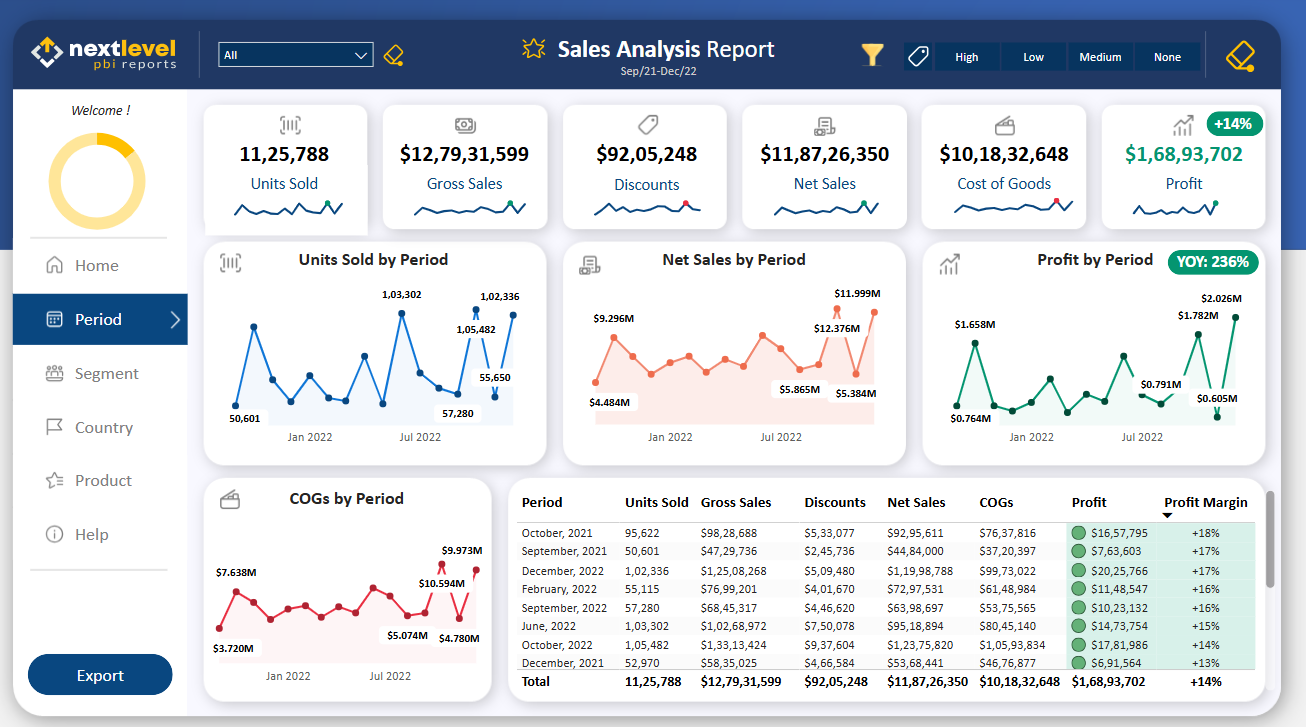

What the dashboard file says about the page in this screenshot:
{"tool":"powerbi","page":{"name":"Sales Analysis","canvas":[1280,720],"ordinal":1},"visuals":[{"type":"actionButton","box":[45,37,145,38],"z":0,"group":"g3"},{"type":"pivotTable","fields":{"Rows":["DIM_MANAGERS.Image URL"]},"box":[68.3,133.3,84.6,84.6],"z":0,"group":"g6"},{"type":"pivotTable","title":"Spark_Profit","fields":{"Values":["SparklineData(*Measures.M_Profit_[DIM DATE.YearMonth])"]},"box":[1080.7,164,157,67],"z":0,"group":"g2"},{"type":"areaChart","title":"Units Sold by Period","fields":{"Category":["DIM DATE.Reporting Period"],"Y":["*Measures.M_Units Sold"]},"box":[216,243.7,320,200],"z":0,"group":"g1"},{"type":"actionButton","title":"Button_Period_Active","box":[28,287.7,168.8,49.4],"z":0,"group":"g5"},{"type":"shape","title":"Shape_Bottom Nav Divider","box":[45,539,132.5,31.2],"z":0,"group":"g4"},{"type":"actionButton","title":"Filter_Button2_Off","box":[843,38,30.2,41],"z":500},{"type":"slicer","fields":{"Values":["DIM_MANAGERS.Manager Name"]},"box":[216,35,170,45],"z":1000,"group":"g3"},{"type":"actionButton","title":"Filter_Button_On","box":[842.7,37.8,29.3,41],"z":1000},{"type":"shape","box":[68.3,133.3,84.6,84.6],"z":1000,"group":"g6"},{"type":"pivotTable","title":"Spark_COG","fields":{"Values":["SparklineData(*Measures.M_Cost Of Goods_[DIM DATE.YearMonth])"]},"box":[907.4,163.7,157,68.2],"z":1000,"group":"g2"},{"type":"areaChart","title":"Net Sales by Period","fields":{"Category":["DIM DATE.Reporting Period"],"Y":["*Measures.M_Net Sales"]},"box":[563.1,243.7,321.1,200],"z":1000,"group":"g1"},{"type":"actionButton","box":[167,287.7,29.9,50.6],"z":1000,"group":"g5"},{"type":"actionButton","title":"Button_Export","box":[42,635,140,40],"z":1000,"group":"g4"},{"type":"actionButton","box":[377.5,46.1,36,24.7],"z":2000,"group":"g3"},{"type":"donutChart","title":"Donut_Mgr Image","fields":{"Y":["*Measures.M_Profit Margin","*Measures.M_100% Minus Profit Margin"]},"box":[46.5,115.4,126.9,128.2],"z":2000,"group":"g6"},{"type":"pivotTable","title":"Spark_Net Sales","fields":{"Values":["SparklineData(*Measures.M_Net Sales_[DIM DATE.YearMonth])"]},"box":[733.7,164,157.4,67.6],"z":2000,"group":"g2"},{"type":"shape","title":"Shape_Top Nav Divider","box":[45,218,132,32],"z":2000,"group":"g4"},{"type":"areaChart","title":"Profit by Period","fields":{"Category":["DIM DATE.Reporting Period"],"Y":["*Measures.M_Profit"]},"box":[911.3,243.7,321.1,200],"z":2000,"group":"g1"},{"type":"actionButton","box":[499.9,31.1,62.9,40.4],"z":3000,"group":"g3"},{"type":"card","title":"Card_Welcome","fields":{"Values":["*Measures.M_User Greeting"]},"box":[35,95,155,37],"z":3000,"group":"g4"},{"type":"shape","box":[142.7,125.7,20.5,20.5],"z":3000,"group":"g6"},{"type":"pivotTable","title":"Spark_Discount","fields":{"Values":["SparklineData(*Measures.M_Discounts_[DIM DATE.YearMonth])"]},"box":[560,164,157.4,67.6],"z":3000,"group":"g2"},{"type":"areaChart","title":"COGs by Period","fields":{"Category":["DIM DATE.Reporting Period"],"Y":["*Measures.M_Cost Of Goods"]},"box":[200,475,300,200],"z":3000,"group":"g1"},{"type":"textbox","box":[549.9,31.1,235,41],"z":4000,"group":"g3"},{"type":"shape","title":"Shape_Hide Mgr Image","box":[70,130,85,85.3],"z":4000,"group":"g4"},{"type":"pivotTable","title":"Spark_Gross Sales","fields":{"Values":["SparklineData(*Measures.M_Gross Sales_[DIM DATE.YearMonth])"]},"box":[386.3,164,157.4,67.6],"z":4000,"group":"g2"},{"type":"tableEx","title":"Table_Period","fields":{"Values":["DIM DATE.Reporting Period","*Measures.M_Units Sold","*Measures.M_Gross Sales","*Measures.M_Discounts","*Measures.M_Net Sales","*Measures.M_Cost Of Goods","*Measures.M_Profit","*Measures.M_Profit Margin Formatted"]},"box":[507.6,473.4,743,203.8],"z":4000,"group":"g1"},{"type":"card","fields":{"Values":["*Measures.M-Date Selection"]},"box":[589.9,56,123,38],"z":5000,"group":"g3"},{"type":"pivotTable","title":"Spark_Units Sold","fields":{"Values":["SparklineData(*Measures.M_Units Sold_[DIM DATE.YearMonth])"]},"box":[213,164,157,68],"z":5000,"group":"g2"},{"type":"shape","title":"Shape_Profit YOY","box":[1142,246,88,24],"z":5000,"group":"g1"},{"type":"actionButton","box":[888,45,27,27],"z":6000,"group":"g3"},{"type":"card","title":"Card_Profit","fields":{"Values":["*Measures.M_Profit"]},"box":[1080.1,119.6,154.9,87.8],"z":6000,"group":"g2"},{"type":"group","id":"g1","title":"Period","box":[200,238,1050.6,439.2],"z":6000},{"type":"card","title":"Card_Profit YOY","fields":{"Values":["*Measures.M_Profit YOY% Formatted"]},"box":[1142,238,87,42.7],"z":6000,"group":"g1"},{"type":"actionButton","title":"Button_Help","box":[28,496,168.8,49.4],"z":6000,"group":"g4"},{"type":"slicer","fields":{"Values":["FACT_SALES.Discount Band"]},"box":[892,38,306,41],"z":7000,"group":"g3"},{"type":"group","id":"g2","title":"Static","box":[213,103.7,1024.7,398.4],"z":7000},{"type":"card","title":"Card_COG","fields":{"Values":["*Measures.M_Cost Of Goods"]},"box":[912.9,119.5,142.9,88.3],"z":7000,"group":"g2"},{"type":"group","id":"g3","title":"Header","box":[45,31.1,1187,62.9],"z":8000},{"type":"actionButton","box":[1193,41,39,35],"z":8000,"group":"g3"},{"type":"card","title":"Card_Net Sales","fields":{"Values":["*Measures.M_Net Sales"]},"box":[728.9,119.6,163.4,87.8],"z":8000,"group":"g2"},{"type":"actionButton","title":"Button_Product","box":[28,443.9,168.8,49.4],"z":8000,"group":"g4"},{"type":"shape","box":[192,35,32,45],"z":9000,"group":"g3"},{"type":"group","id":"g4","title":"Navigation","box":[28,95,169.4,580],"z":9000},{"type":"card","title":"Card_Discount","fields":{"Values":["*Measures.M_Discounts"]},"box":[567.4,118.9,143,88.6],"z":9000,"group":"g2"},{"type":"shape","box":[1163,35,32,45],"z":10000,"group":"g3"},{"type":"card","title":"Card_Gross Sales","fields":{"Values":["*Measures.M_Gross Sales"]},"box":[385.5,119.4,155.6,88.1],"z":10000,"group":"g2"},{"type":"actionButton","title":"Button_Country","box":[28,391.9,168,49.4],"z":10000,"group":"g4"},{"type":"card","title":"Card_Units Sold","fields":{"Values":["*Measures.M_Units Sold"]},"box":[218,119.5,142.9,88.3],"z":11000,"group":"g2"},{"type":"actionButton","title":"Button_Profit Icon","box":[1141,110,32.1,32.1],"z":12000,"group":"g2"},{"type":"actionButton","title":"Button_Segment","box":[28,339.8,168.8,49.4],"z":12000,"group":"g4"},{"type":"actionButton","title":"Button_COG Icon","box":[968.8,110,30.8,32.1],"z":13000,"group":"g2"},{"type":"actionButton","title":"Button_Period","box":[28,287.7,168.8,50],"z":13000,"group":"g4"},{"type":"actionButton","title":"Button_Net Sales Icon","box":[795.4,110,32.1,32.1],"z":14000,"group":"g2"},{"type":"group","id":"g5","title":"Button_Period_Active","box":[28,287.7,168.8,50.6],"z":14000,"group":"g4"},{"type":"actionButton","title":"Button_Discount Icon","box":[624.4,110,31.6,31.6],"z":15000,"group":"g2"},{"type":"actionButton","title":"Button_Home","box":[28,235,168,50],"z":15000,"group":"g4"},{"type":"group","id":"g6","title":"Group_ManagerImages","box":[46.5,115.4,126.9,128.2],"z":15500,"group":"g4"},{"type":"actionButton","title":"Button_Gross Sales Icon","box":[448.4,110,32.1,32.1],"z":16000,"group":"g2"},{"type":"actionButton","title":"Button_Units Sold Icon","box":[278.8,110,31.6,31.6],"z":17000,"group":"g2"},{"type":"shape","title":"Shape_Profit Margin","box":[1179,112,55,24],"z":18000,"group":"g2"},{"type":"card","title":"Card_Profit Margin","fields":{"Values":["*Measures.M_Profit Margin Formatted"]},"box":[1178,103.7,53.7,42.7],"z":19000,"group":"g2"},{"type":"actionButton","title":"Button_Profit Icon","box":[915,243.1,32.1,32.1],"z":20000,"group":"g2"},{"type":"actionButton","title":"Button_Units Sold Icon","box":[222,243,32.1,32.1],"z":21000,"group":"g2"},{"type":"actionButton","title":"Button_COG Icon","box":[222,470,30.8,32.1],"z":22000,"group":"g2"},{"type":"actionButton","title":"Button_Net Sales Icon","box":[568.5,243.1,32.1,32.1],"z":23000,"group":"g2"}]}

Visuals, with their boxes in screenshot pixels (x1, y1, x2, y2), scaled from the page's 1280x720 canvas onto the 1306x727 screenshot:
actionButton: (left=46, top=37, right=194, bottom=76)
pivotTable - DIM_MANAGERS.Image URL: (left=70, top=135, right=156, bottom=220)
"Spark_Profit" pivotTable: (left=1103, top=166, right=1263, bottom=233)
"Units Sold by Period" areaChart: (left=220, top=246, right=547, bottom=448)
"Button_Period_Active" actionButton: (left=29, top=290, right=201, bottom=340)
"Shape_Bottom Nav Divider" shape: (left=46, top=544, right=181, bottom=576)
"Filter_Button2_Off" actionButton: (left=860, top=38, right=891, bottom=80)
slicer - DIM_MANAGERS.Manager Name: (left=220, top=35, right=394, bottom=81)
"Filter_Button_On" actionButton: (left=860, top=38, right=890, bottom=80)
shape: (left=70, top=135, right=156, bottom=220)
"Spark_COG" pivotTable: (left=926, top=165, right=1086, bottom=234)
"Net Sales by Period" areaChart: (left=575, top=246, right=902, bottom=448)
actionButton: (left=170, top=290, right=201, bottom=342)
"Button_Export" actionButton: (left=43, top=641, right=186, bottom=682)
actionButton: (left=385, top=47, right=422, bottom=71)
"Donut_Mgr Image" donutChart: (left=47, top=117, right=177, bottom=246)
"Spark_Net Sales" pivotTable: (left=749, top=166, right=909, bottom=234)
"Shape_Top Nav Divider" shape: (left=46, top=220, right=181, bottom=252)
"Profit by Period" areaChart: (left=930, top=246, right=1257, bottom=448)
actionButton: (left=510, top=31, right=574, bottom=72)
"Card_Welcome" card: (left=36, top=96, right=194, bottom=133)
shape: (left=146, top=127, right=167, bottom=148)
"Spark_Discount" pivotTable: (left=571, top=166, right=732, bottom=234)
"COGs by Period" areaChart: (left=204, top=480, right=510, bottom=682)
textbox: (left=561, top=31, right=801, bottom=73)
"Shape_Hide Mgr Image" shape: (left=71, top=131, right=158, bottom=217)
"Spark_Gross Sales" pivotTable: (left=394, top=166, right=555, bottom=234)
"Table_Period" tableEx: (left=518, top=478, right=1276, bottom=684)
card - *Measures.M-Date Selection: (left=602, top=57, right=727, bottom=95)
"Spark_Units Sold" pivotTable: (left=217, top=166, right=378, bottom=234)
"Shape_Profit YOY" shape: (left=1165, top=248, right=1255, bottom=273)
actionButton: (left=906, top=45, right=934, bottom=73)
"Card_Profit" card: (left=1102, top=121, right=1260, bottom=209)
"Period" group: (left=204, top=240, right=1276, bottom=684)
"Card_Profit YOY" card: (left=1165, top=240, right=1254, bottom=283)
"Button_Help" actionButton: (left=29, top=501, right=201, bottom=551)
slicer - FACT_SALES.Discount Band: (left=910, top=38, right=1222, bottom=80)
"Static" group: (left=217, top=105, right=1263, bottom=507)
"Card_COG" card: (left=931, top=121, right=1077, bottom=210)
"Header" group: (left=46, top=31, right=1257, bottom=95)
actionButton: (left=1217, top=41, right=1257, bottom=77)
"Card_Net Sales" card: (left=744, top=121, right=910, bottom=209)
"Button_Product" actionButton: (left=29, top=448, right=201, bottom=498)
shape: (left=196, top=35, right=229, bottom=81)
"Navigation" group: (left=29, top=96, right=201, bottom=682)
"Card_Discount" card: (left=579, top=120, right=725, bottom=210)
shape: (left=1187, top=35, right=1219, bottom=81)
"Card_Gross Sales" card: (left=393, top=121, right=552, bottom=210)
"Button_Country" actionButton: (left=29, top=396, right=200, bottom=446)
"Card_Units Sold" card: (left=222, top=121, right=368, bottom=210)
"Button_Profit Icon" actionButton: (left=1164, top=111, right=1197, bottom=143)
"Button_Segment" actionButton: (left=29, top=343, right=201, bottom=393)
"Button_COG Icon" actionButton: (left=988, top=111, right=1020, bottom=143)
"Button_Period" actionButton: (left=29, top=290, right=201, bottom=341)
"Button_Net Sales Icon" actionButton: (left=812, top=111, right=844, bottom=143)
"Button_Period_Active" group: (left=29, top=290, right=201, bottom=342)
"Button_Discount Icon" actionButton: (left=637, top=111, right=669, bottom=143)
"Button_Home" actionButton: (left=29, top=237, right=200, bottom=288)
"Group_ManagerImages" group: (left=47, top=117, right=177, bottom=246)
"Button_Gross Sales Icon" actionButton: (left=458, top=111, right=490, bottom=143)
"Button_Units Sold Icon" actionButton: (left=284, top=111, right=317, bottom=143)
"Shape_Profit Margin" shape: (left=1203, top=113, right=1259, bottom=137)
"Card_Profit Margin" card: (left=1202, top=105, right=1257, bottom=148)
"Button_Profit Icon" actionButton: (left=934, top=245, right=966, bottom=278)
"Button_Units Sold Icon" actionButton: (left=227, top=245, right=259, bottom=278)
"Button_COG Icon" actionButton: (left=227, top=475, right=258, bottom=507)
"Button_Net Sales Icon" actionButton: (left=580, top=245, right=613, bottom=278)
